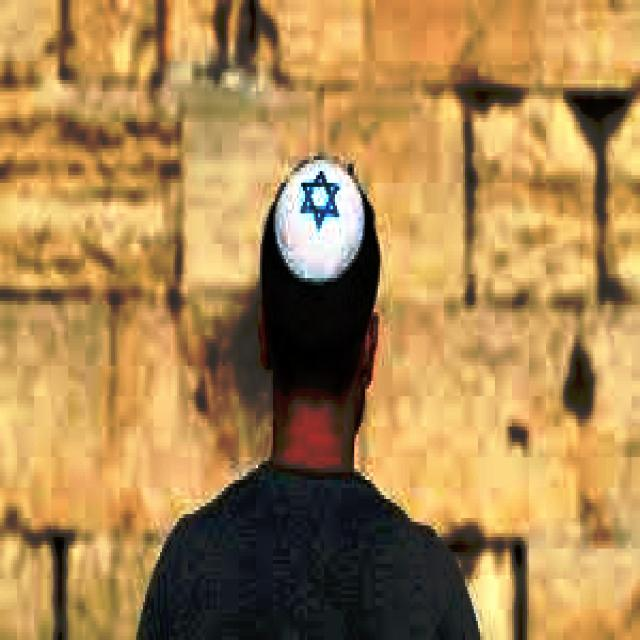TOPI: (267, 148, 369, 286)
